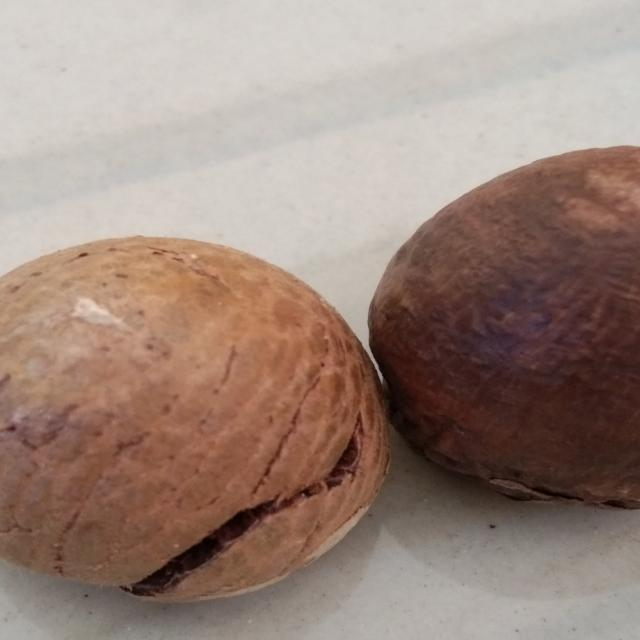karigot: (387, 124, 640, 542)
phatora: (0, 234, 373, 612)
